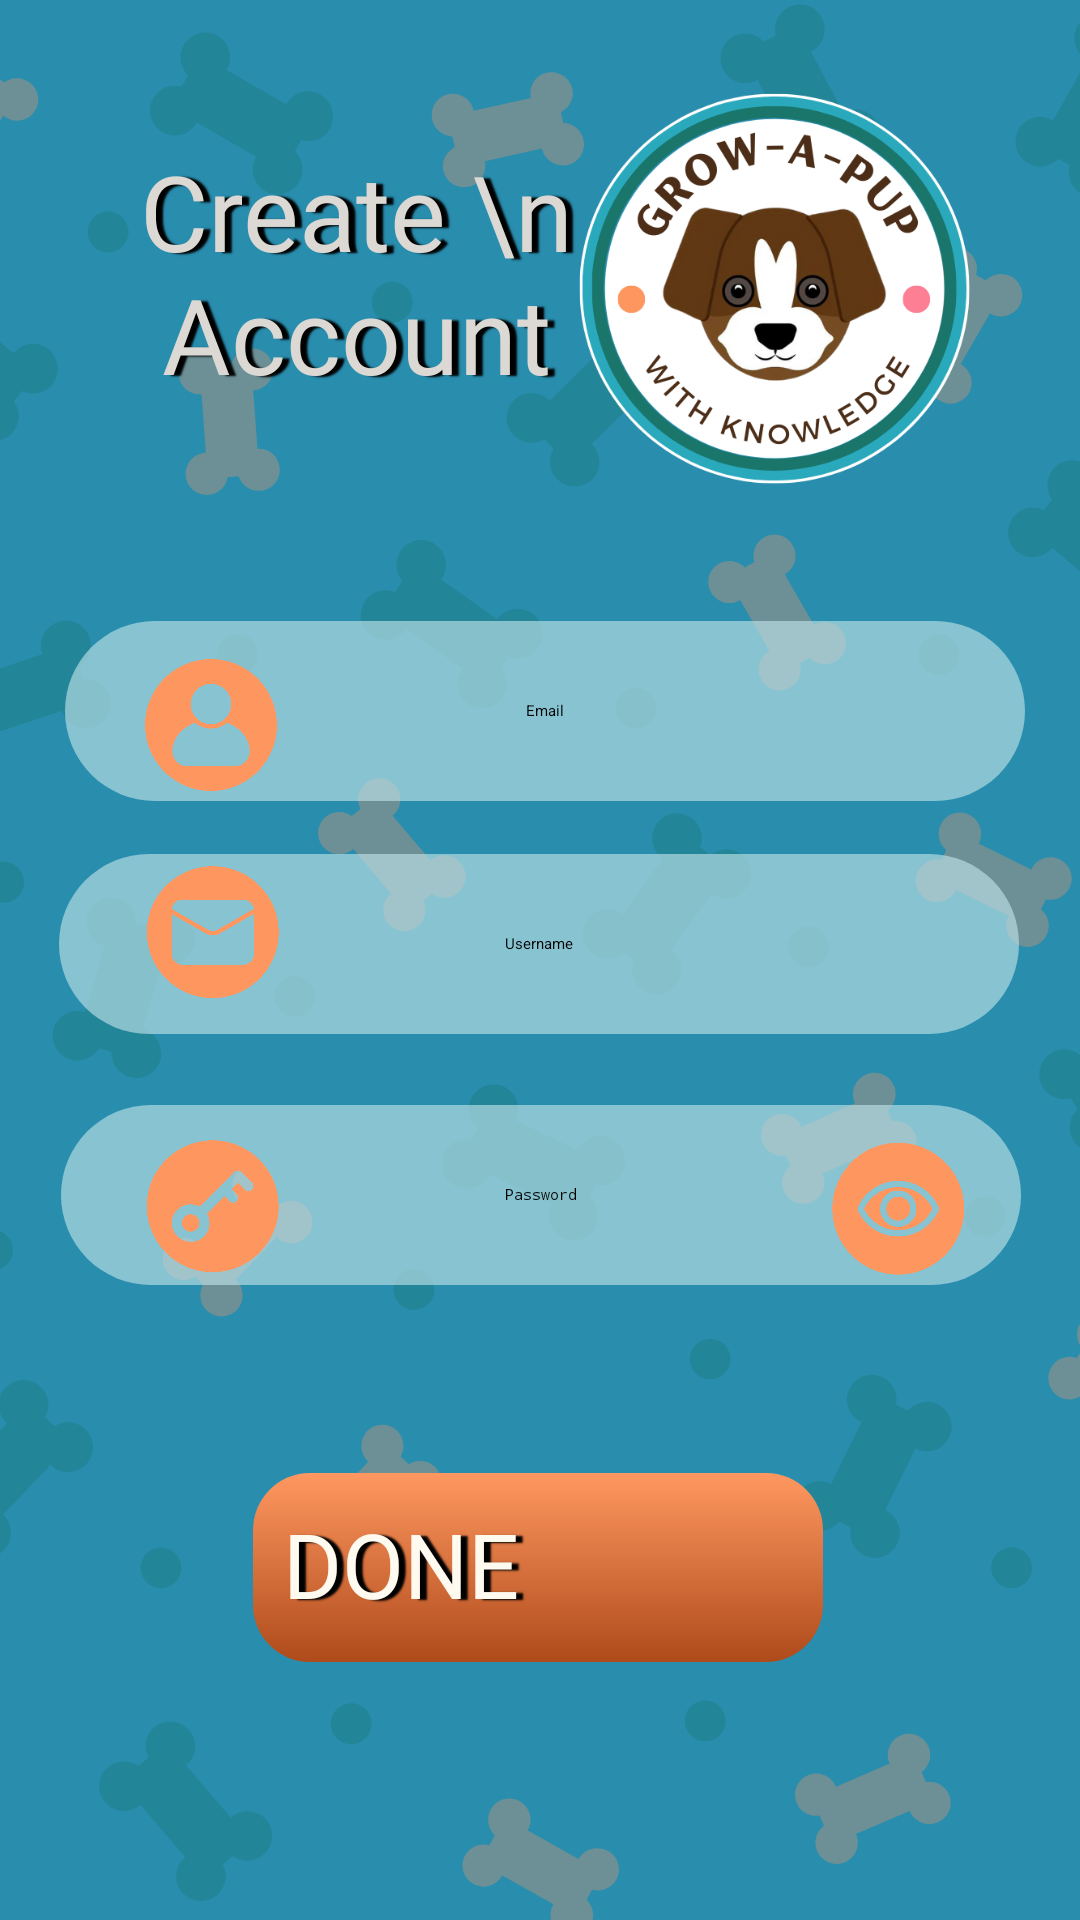

Icon click points for this 1080x1920 phone screenshot, format [x,y]:
visibleicon: [898,1209]
